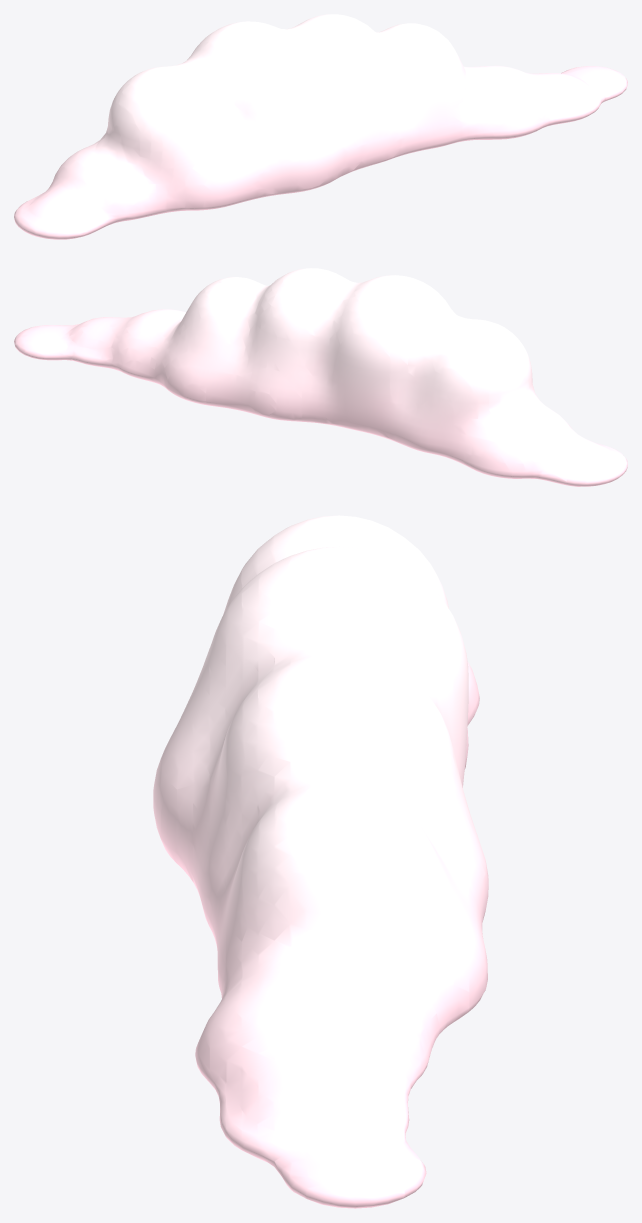
File: cloud-b.glb
3 views of the same model, one above another, from view 1: azimuth 30°, elevation 25°; view 2: azimuth 150°, elevation 25°; view 3: azimuth 270°, elevation 25° (orthographic). The views are drawn at different scales.
Visible parts, largest first — view 1: cloud-b; view 2: cloud-b; view 3: cloud-b.
Part boxes in pixels (bbox=[...]): cloud-b: bbox=[14, 14, 627, 239]; cloud-b: bbox=[14, 268, 627, 486]; cloud-b: bbox=[153, 515, 488, 1208].
Size of the model in its own units: 10 by 2.4 by 2.43.
